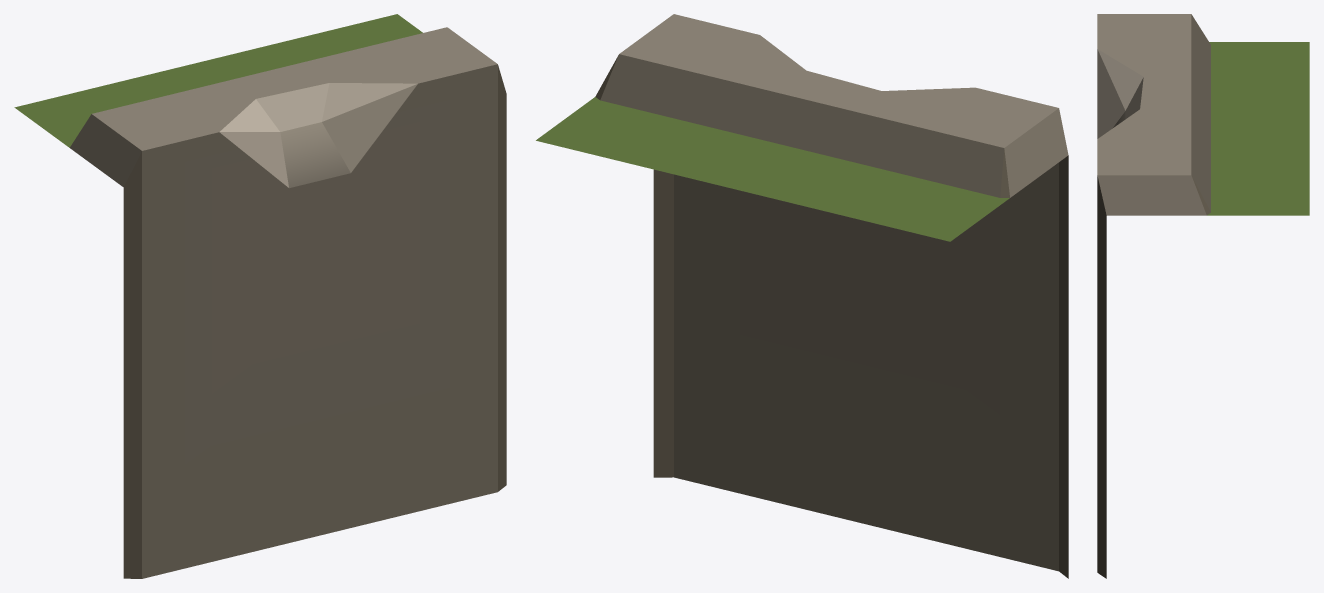
Rendered from SF_Bld_Elven_Blockwall_02.fbx.
3 views of the same model, side by side, from view 1: azimuth 30°, elevation 25°; view 2: azimuth 150°, elevation 25°; view 3: azimuth 270°, elevation 25° (orthographic). The views are drawn at different scales.
Parts seen in each view (by area): view 1: SF_Bld_Elven_Blockwall_02; view 2: SF_Bld_Elven_Blockwall_02; view 3: SF_Bld_Elven_Blockwall_02.
Part boxes in pixels (box(x1,y1,x2,y2)): SF_Bld_Elven_Blockwall_02: box(14, 14, 506, 578); SF_Bld_Elven_Blockwall_02: box(536, 14, 1068, 578); SF_Bld_Elven_Blockwall_02: box(1097, 14, 1309, 578).
Bounding box in the file's own units: 10 × 10.67 × 5.16.
